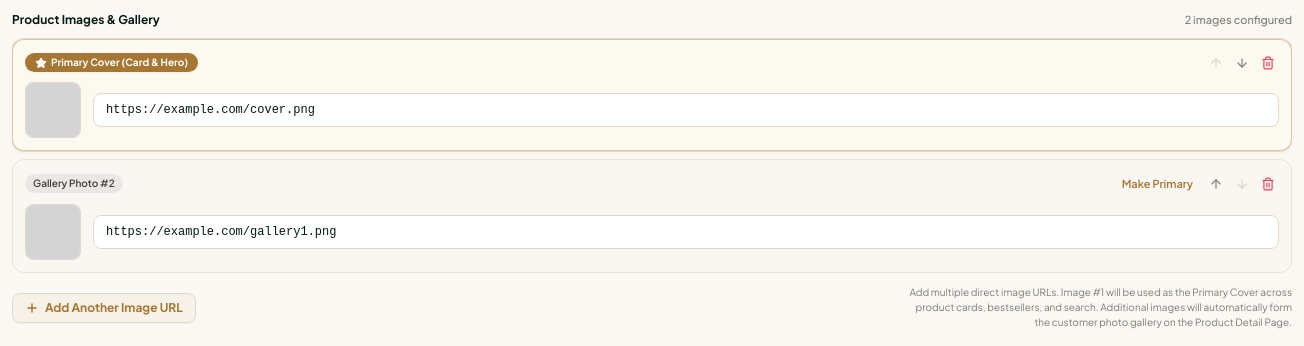
MultipleImageUrlsEditor Component Suite › supports setting a gallery image as primary
Click the button "Make Primary" at x=1157, y=184, box [1114,172,1201,196]
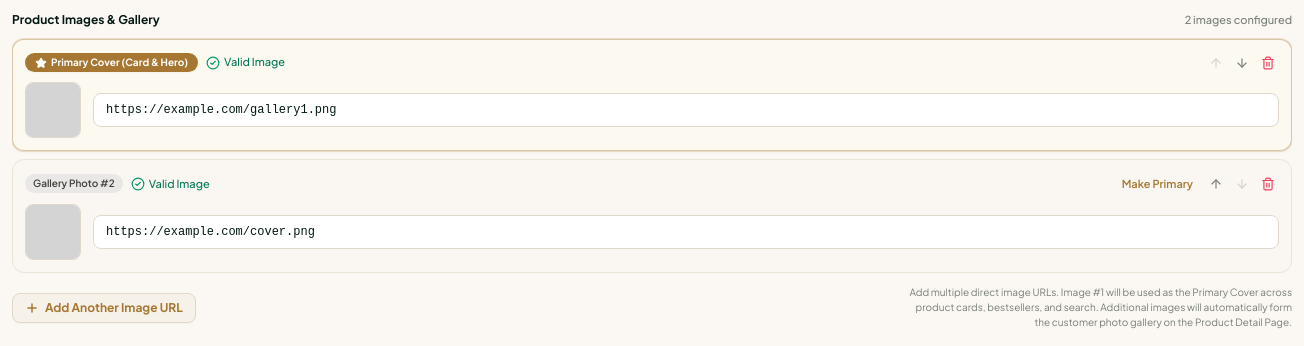
Check: the field with placeholder "https://... direct image link or /assets/photo.png" below "Primary Cover (Card & Hero)" holds "https://example.com/gallery1.png", box [93,92,1279,126]
Check: the field with placeholder "https://... direct image link or /assets/photo.png" below "Gallery Photo #" holds "https://example.com/cover.png", box [93,215,1279,249]
